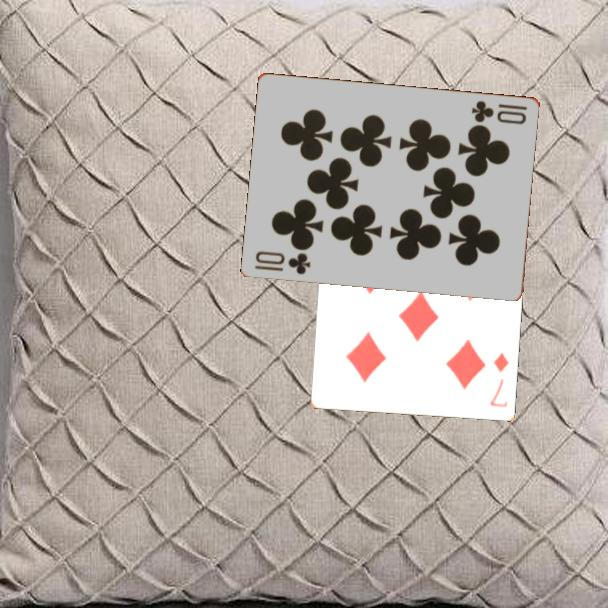c10: (468, 97, 530, 127), (252, 247, 314, 277)
d07: (487, 350, 512, 411)
